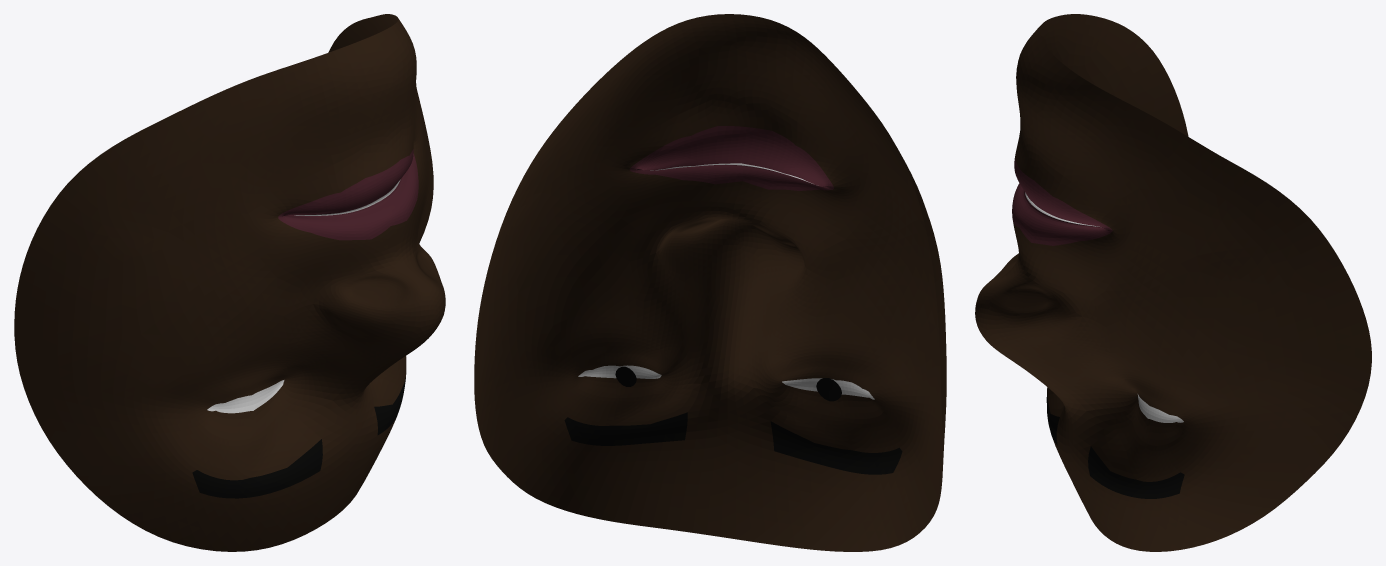
File: IMG_3793.obj
3 views of the same model, side by side, from view 1: azimuth 30°, elevation 25°; view 2: azimuth 150°, elevation 25°; view 3: azimuth 270°, elevation 25° (orthographic).
Visible parts, largest first — view 1: face_mesh_subdivided; view 2: face_mesh_subdivided; view 3: face_mesh_subdivided.
Boxes of the visible parts, x1,y1,x2,y2 form: face_mesh_subdivided: (14, 14, 445, 551); face_mesh_subdivided: (474, 14, 946, 551); face_mesh_subdivided: (975, 14, 1371, 551).
Size of the model in its own units: 0.6754 by 0.7929 by 0.5726.
